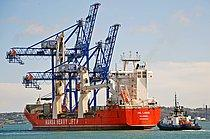Ship: (22, 51, 164, 133)
